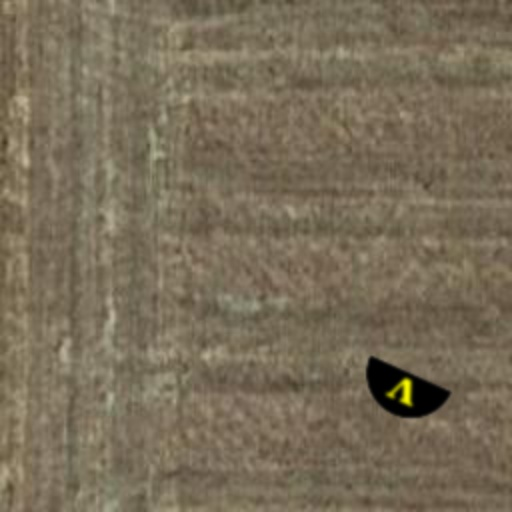semicircle: (342, 334, 462, 454)
